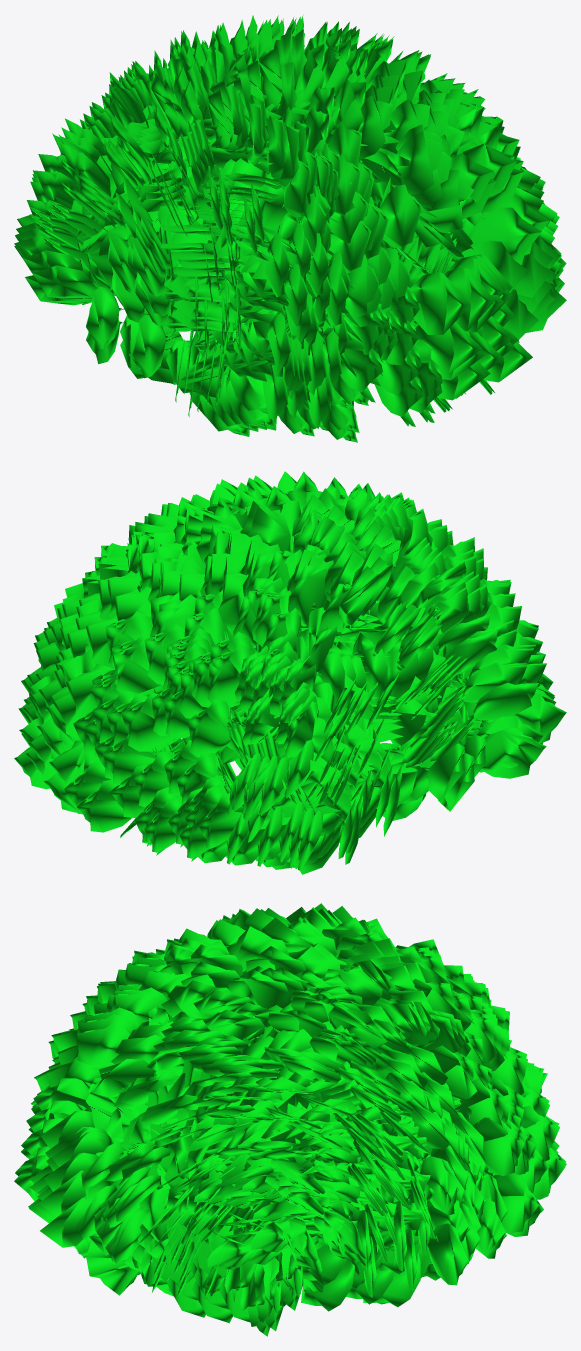
File: kudzu_TEST2.fbx
3 renders of one model, top to bottom at view 1: azimuth 30°, elevation 25°; view 2: azimuth 150°, elevation 25°; view 3: azimuth 270°, elevation 25°, orthographic. The views are drawn at different scales.
Visible parts, largest first — view 1: kudzu_final; view 2: kudzu_final; view 3: kudzu_final.
Part boxes in pixels (x1,y1,x2,y2): kudzu_final: (14, 15, 566, 442); kudzu_final: (14, 471, 566, 874); kudzu_final: (14, 903, 566, 1336).
Size of the model in its own units: 271 by 182 by 278.
